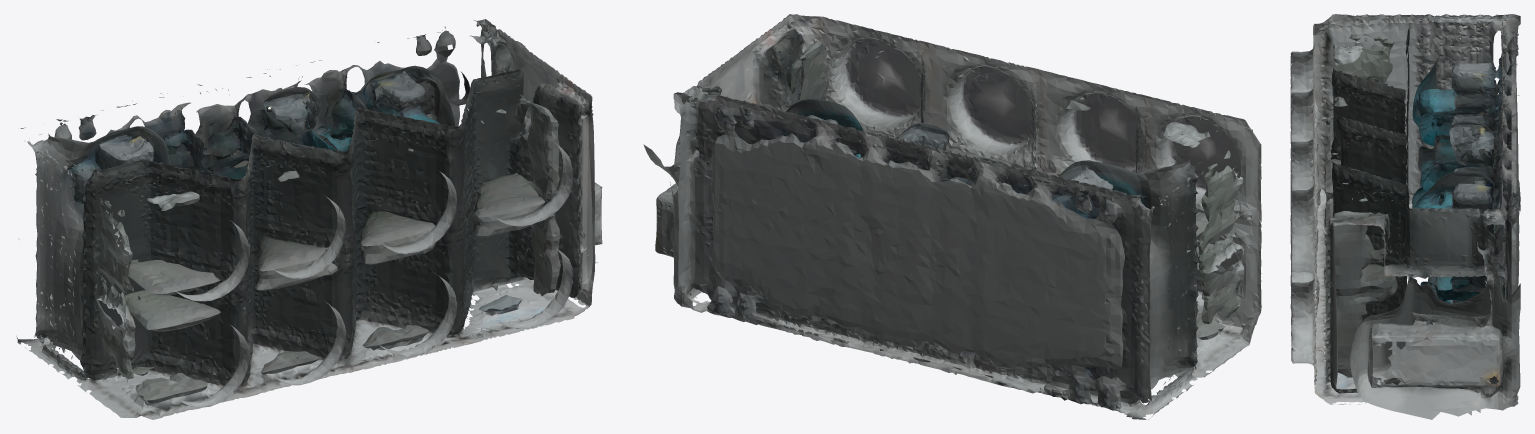
The model's file is chiller_rgb_poisson.glb.
3 renders of one model, left to right at view 1: azimuth 30°, elevation 25°; view 2: azimuth 150°, elevation 25°; view 3: azimuth 270°, elevation 25°, orthographic. The views are drawn at different scales.
Visible parts, largest first — view 1: world; view 2: world; view 3: world.
Part boxes in pixels (x1,y1,x2,y2): world: [16, 19, 602, 419]; world: [643, 14, 1261, 419]; world: [1290, 14, 1520, 419].
Bounding box in the file's own units: 0.9935 × 0.4082 × 0.4444.
